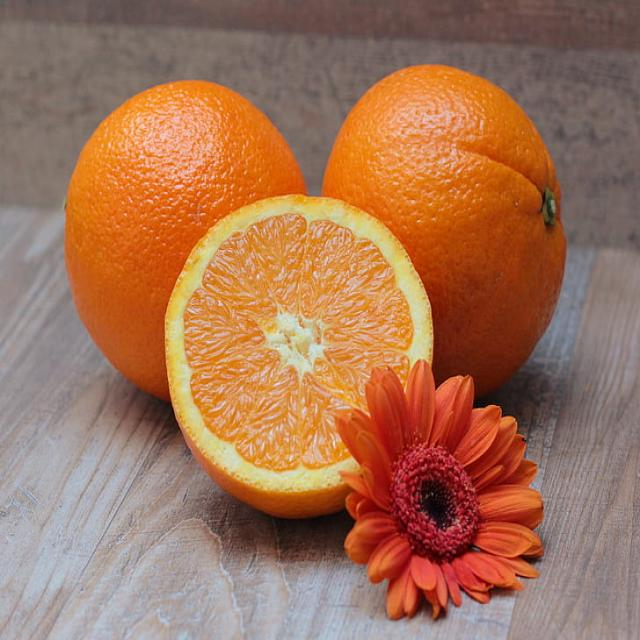orange: (161, 198, 433, 502), (433, 61, 573, 389)
